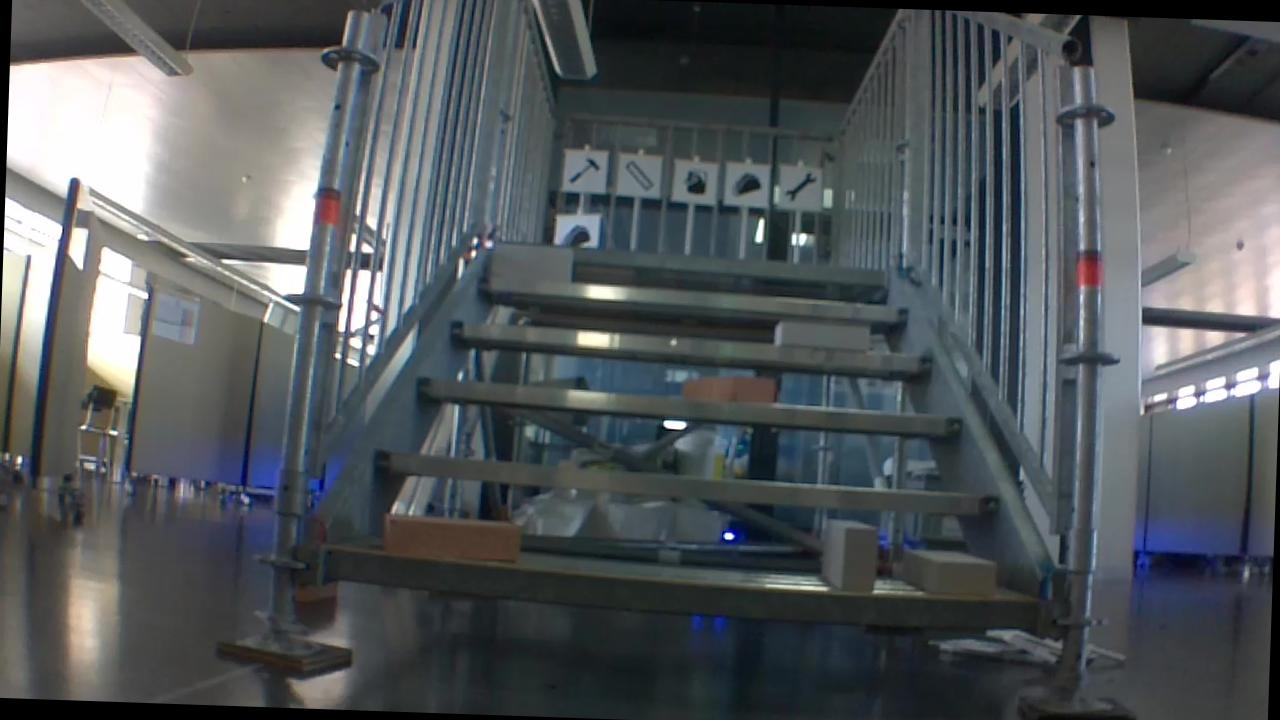brick: (383, 513, 516, 561), (905, 548, 997, 595), (820, 520, 876, 594), (493, 242, 571, 283), (773, 321, 867, 350), (684, 374, 772, 401)
bucket: (679, 165, 710, 197)
edge: (323, 547, 1040, 631), (374, 449, 999, 514), (417, 377, 963, 434), (449, 322, 931, 373), (474, 276, 911, 321), (485, 242, 887, 283)
hammer: (566, 151, 601, 187)
ruler: (617, 156, 657, 192)
steps: (313, 234, 1067, 653)
taco: (727, 167, 764, 199)
wrench: (780, 166, 818, 207)
